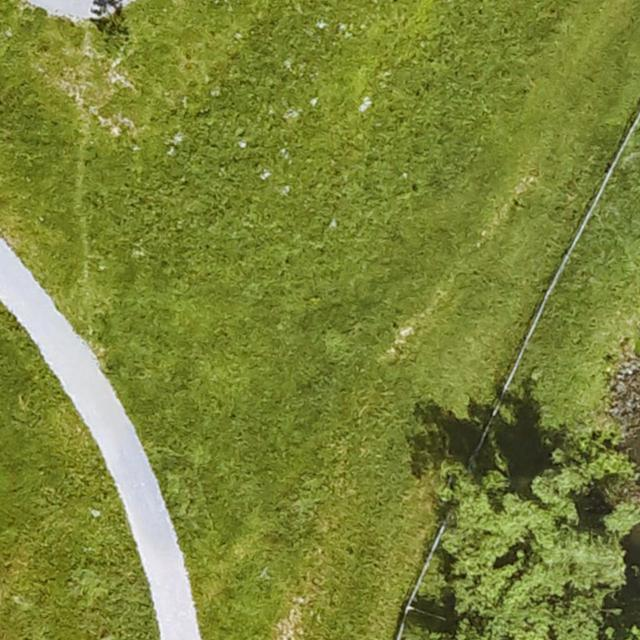tree: (444, 448, 640, 640)
